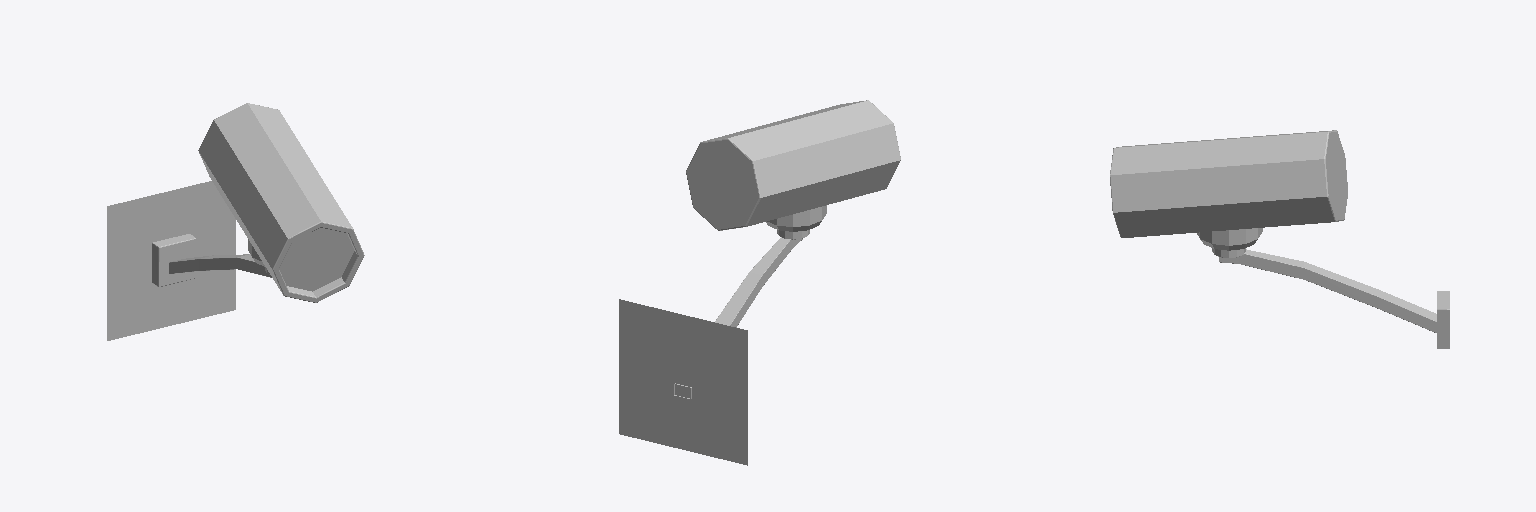
The model's file is LowPoly CCTV_Camera.obj.
3 views of the same model, side by side, from view 1: azimuth 30°, elevation 25°; view 2: azimuth 150°, elevation 25°; view 3: azimuth 270°, elevation 25° (orthographic).
Visible parts, largest first — view 1: CCTV_CAMERA, Grid; view 2: CCTV_CAMERA, Grid; view 3: CCTV_CAMERA.
Part boxes in pixels (x1,y1,x2,y2): CCTV_CAMERA: (152,103,364,302); Grid: (107,181,235,340); CCTV_CAMERA: (674,100,900,398); Grid: (619,299,747,465); CCTV_CAMERA: (1110,130,1449,348).
Bounding box in the file's own units: 0.1332 × 0.2599 × 0.3043.